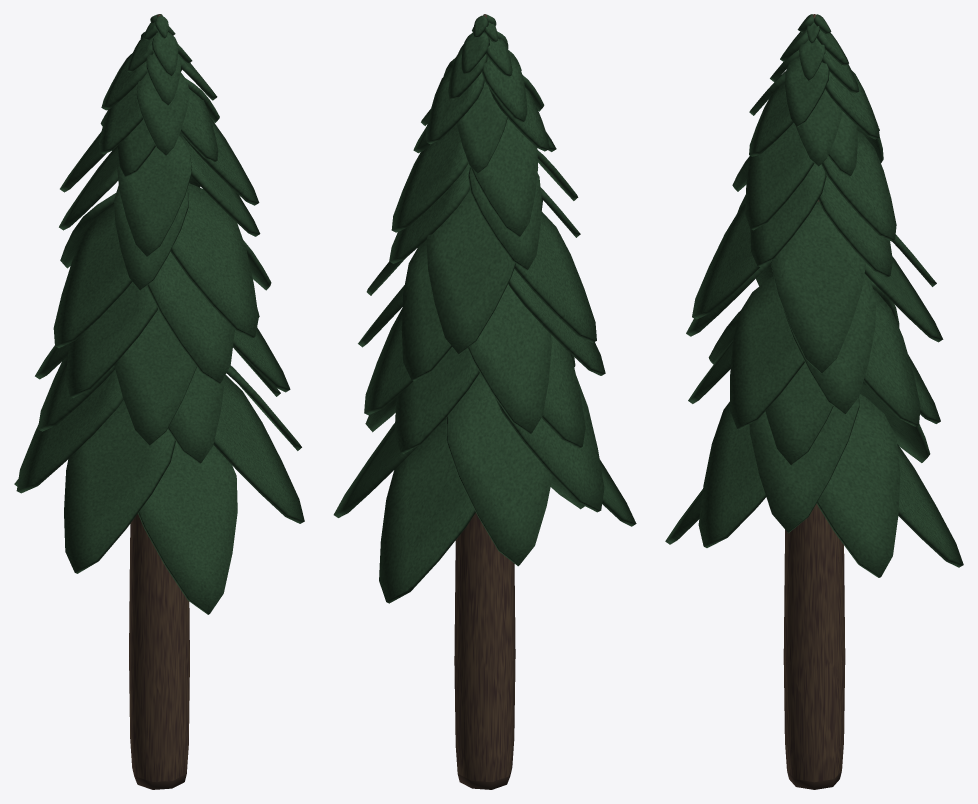
File: pineTree.fbx
3 renders of one model, left to right at view 1: azimuth 30°, elevation 25°; view 2: azimuth 150°, elevation 25°; view 3: azimuth 270°, elevation 25°, orthographic.
Visible parts, largest first — view 1: Plane.004, Cube; view 2: Plane.004, Cube; view 3: Plane.004, Cube.
Part boxes in pixels (bbox=[...]): Plane.004: bbox=[14, 14, 304, 614]; Cube: bbox=[129, 14, 189, 789]; Plane.004: bbox=[333, 14, 636, 603]; Cube: bbox=[454, 14, 515, 789]; Plane.004: bbox=[665, 14, 963, 577]; Cube: bbox=[783, 14, 845, 789].
Size of the model in its own units: 499 by 1409 by 498.
